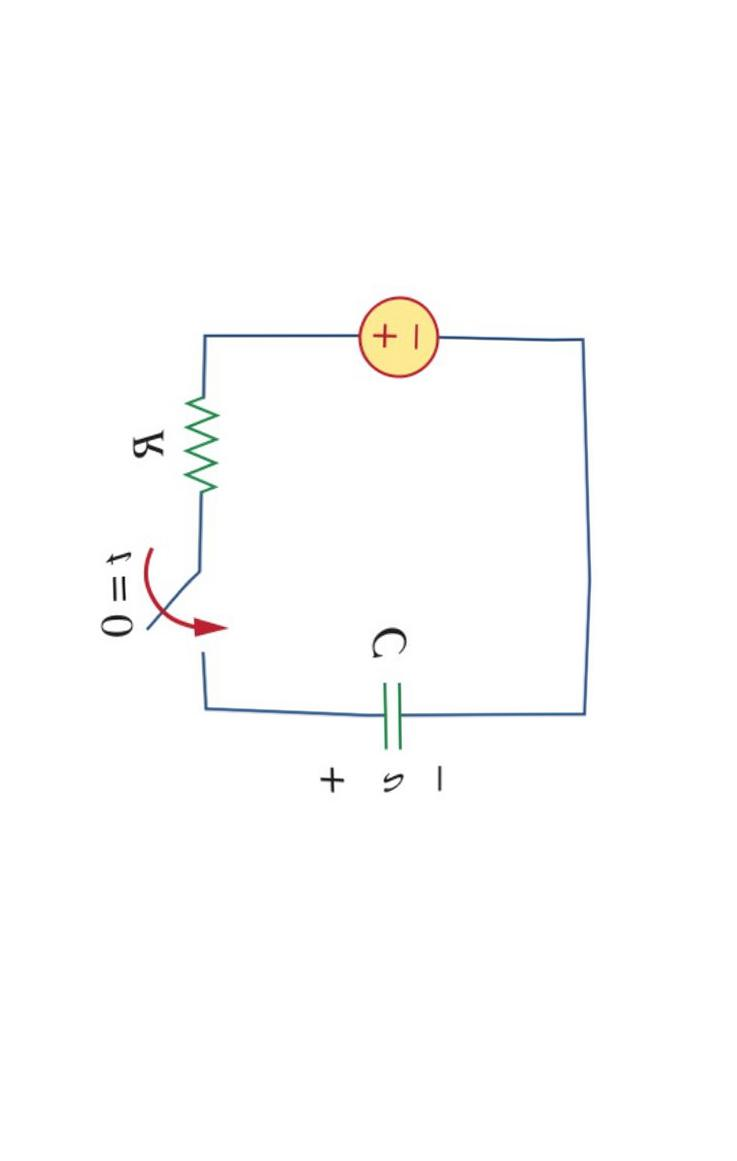Battery: (324, 267, 471, 412)
